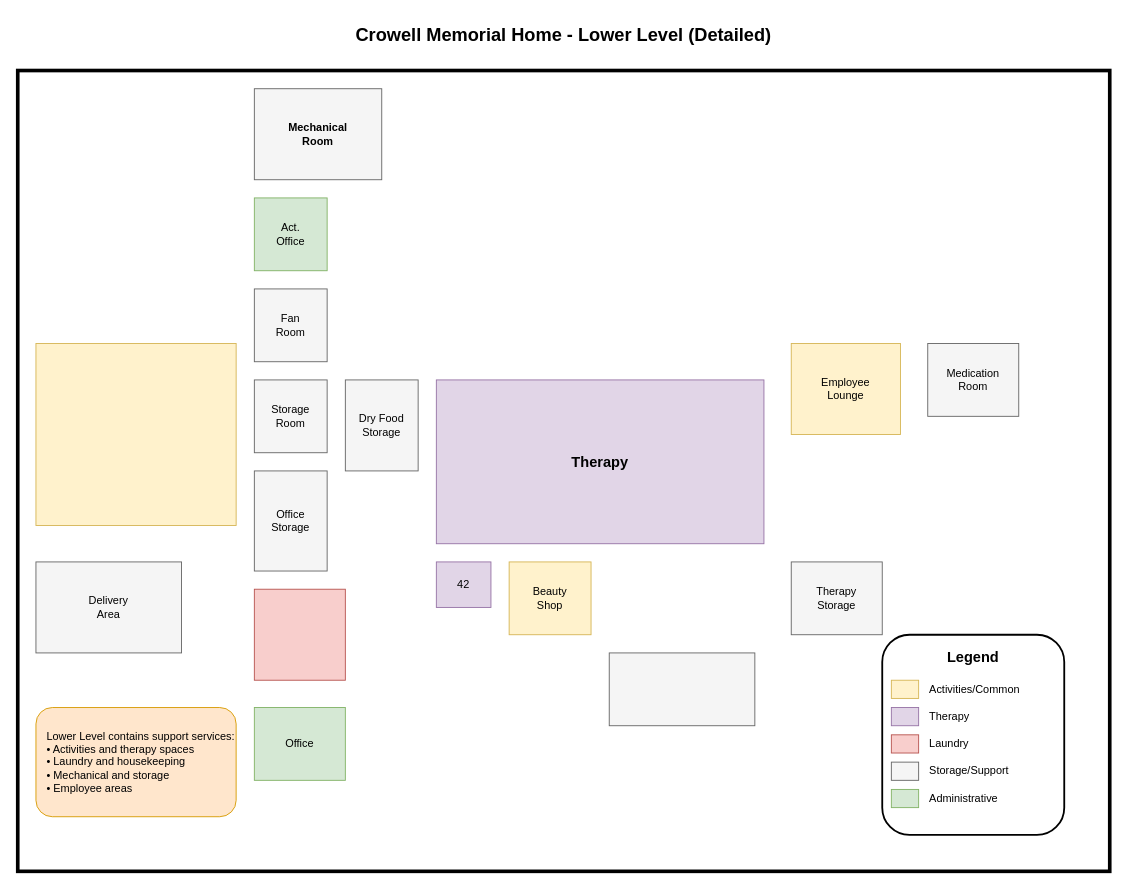
The diagram is 1127 pixels wide and 888 high, and some of its shapes have lost their labels. The box of each missing label's shape, as (x1, y1, x2, y2) in pixels:
Activities: (35, 343, 236, 526)
Laundry/ Wash: (253, 588, 345, 680)
Restrooms: (608, 652, 755, 726)
